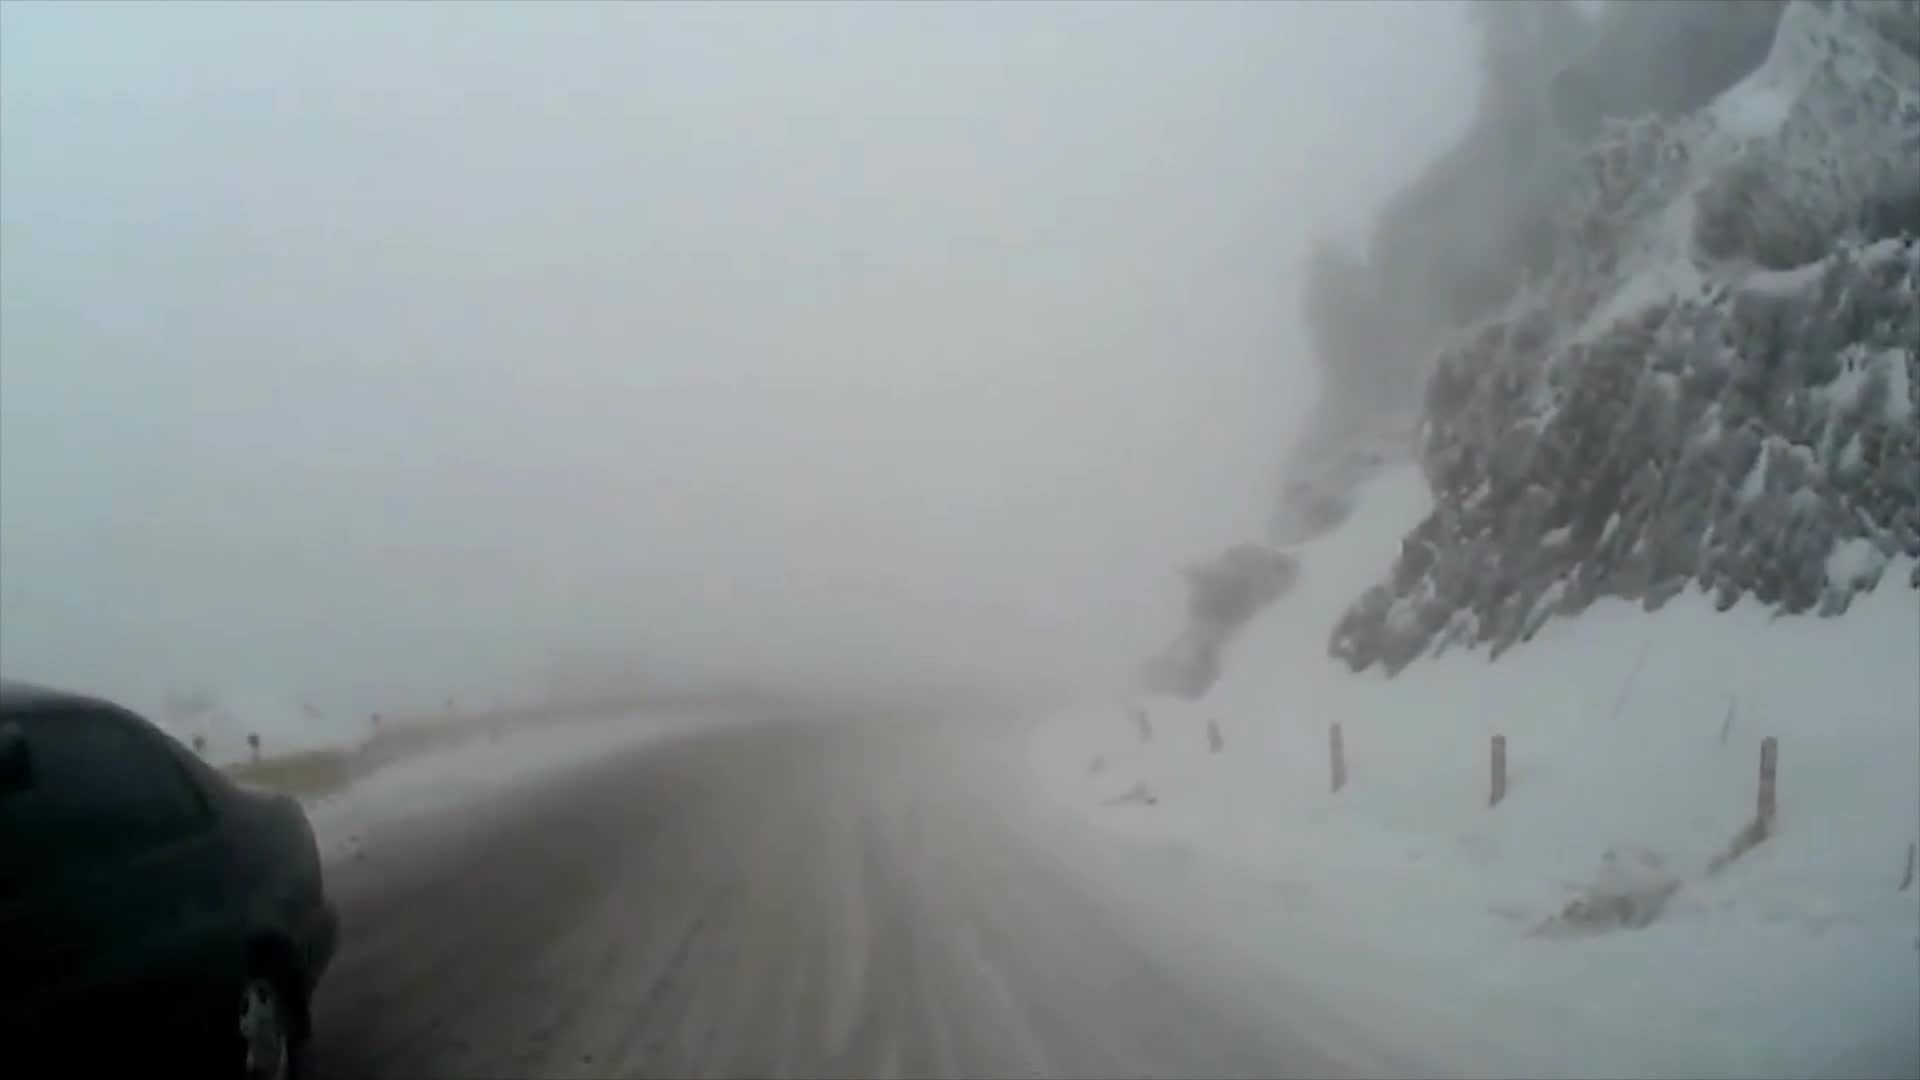vehicle: (0, 676, 343, 1079)
